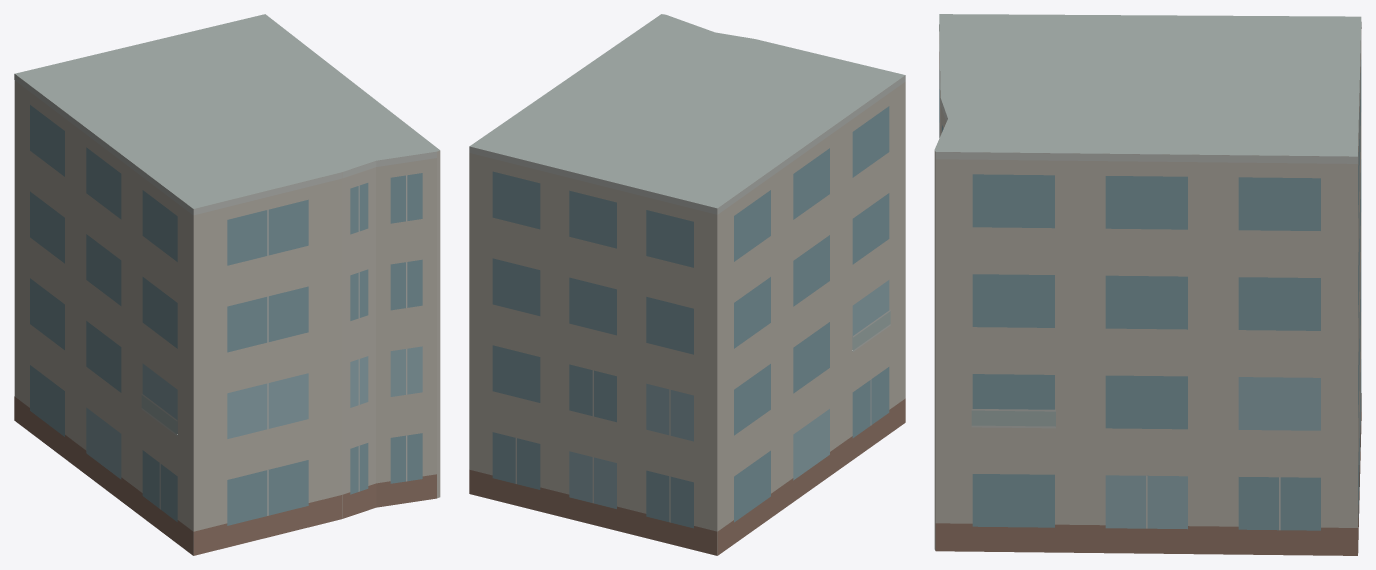
File: survey-upis-32908888.glb
3 views of the same model, side by side, from view 1: azimuth 30°, elevation 25°; view 2: azimuth 150°, elevation 25°; view 3: azimuth 270°, elevation 25° (orthographic). The views are drawn at different scales.
Parts seen in each view (by area): view 1: survey-upis-32908888.tmp; view 2: survey-upis-32908888.tmp; view 3: survey-upis-32908888.tmp.
Part boxes in pixels (x1,y1,x2,y2): survey-upis-32908888.tmp: (14, 14, 440, 555); survey-upis-32908888.tmp: (469, 14, 905, 555); survey-upis-32908888.tmp: (934, 14, 1361, 555).
Bounding box in the file's own units: 10.12 × 13.18 × 12.78.
